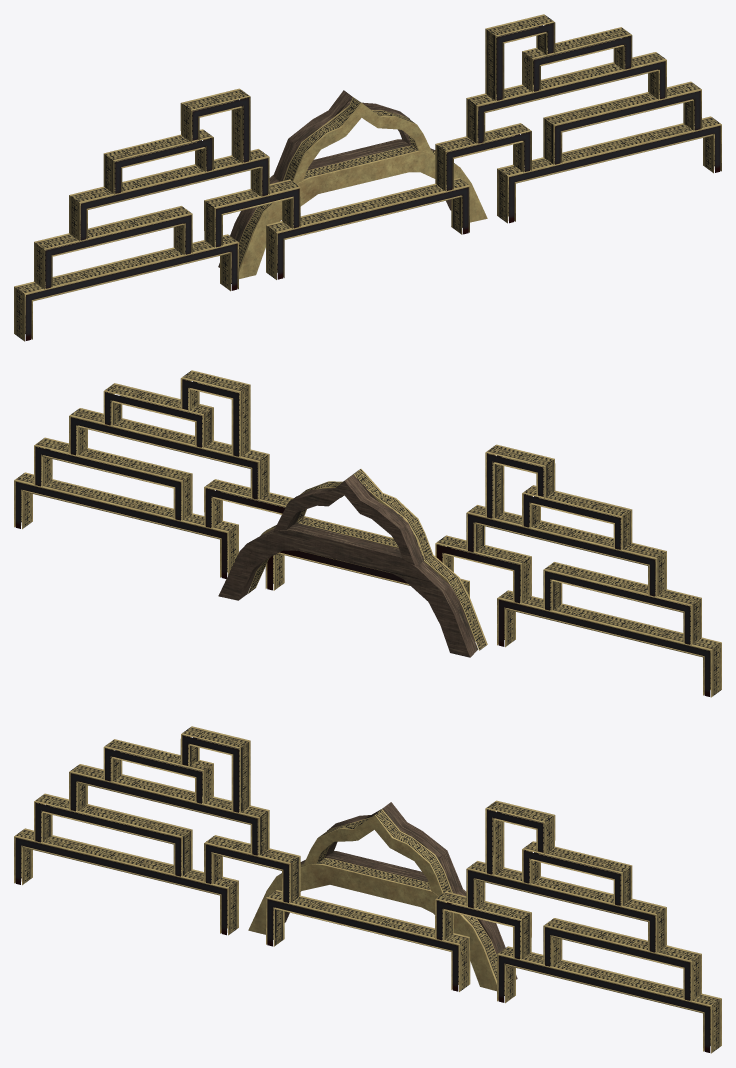
File: SM_Decors.fbx
3 renders of one model, top to bottom at view 1: azimuth 30°, elevation 25°; view 2: azimuth 150°, elevation 25°; view 3: azimuth 330°, elevation 25°, orthographic.
Visible parts, largest first — view 1: SM_Decors_LOD0; view 2: SM_Decors_LOD0; view 3: SM_Decors_LOD0.
Boxes of the visible parts, x1,y1,x2,y2 form: SM_Decors_LOD0: (14,14,721,341); SM_Decors_LOD0: (14,370,721,697); SM_Decors_LOD0: (14,726,721,1053).
Size of the model in its own units: 638 by 46.91 by 167.
